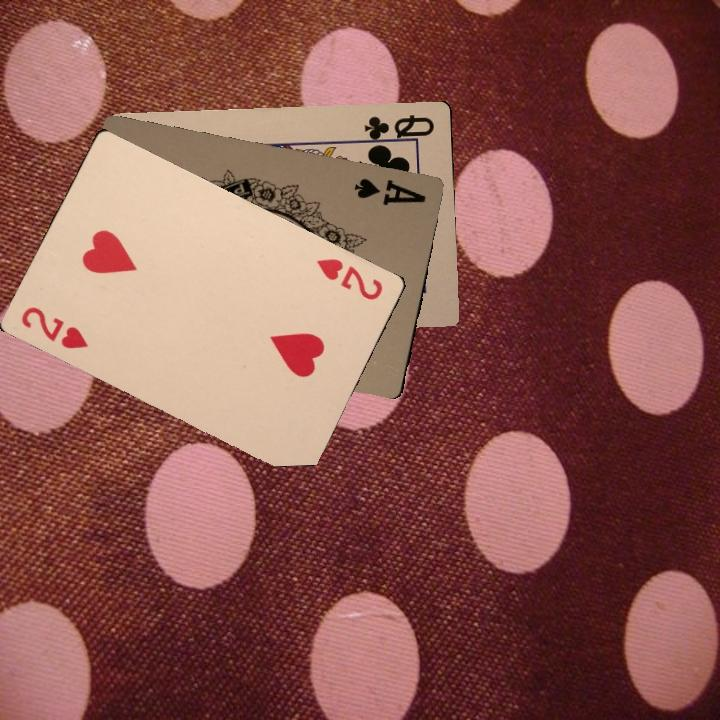2h: (17, 302, 91, 352), (312, 254, 385, 303)
As: (350, 174, 428, 208)
Qc: (359, 111, 436, 145)
